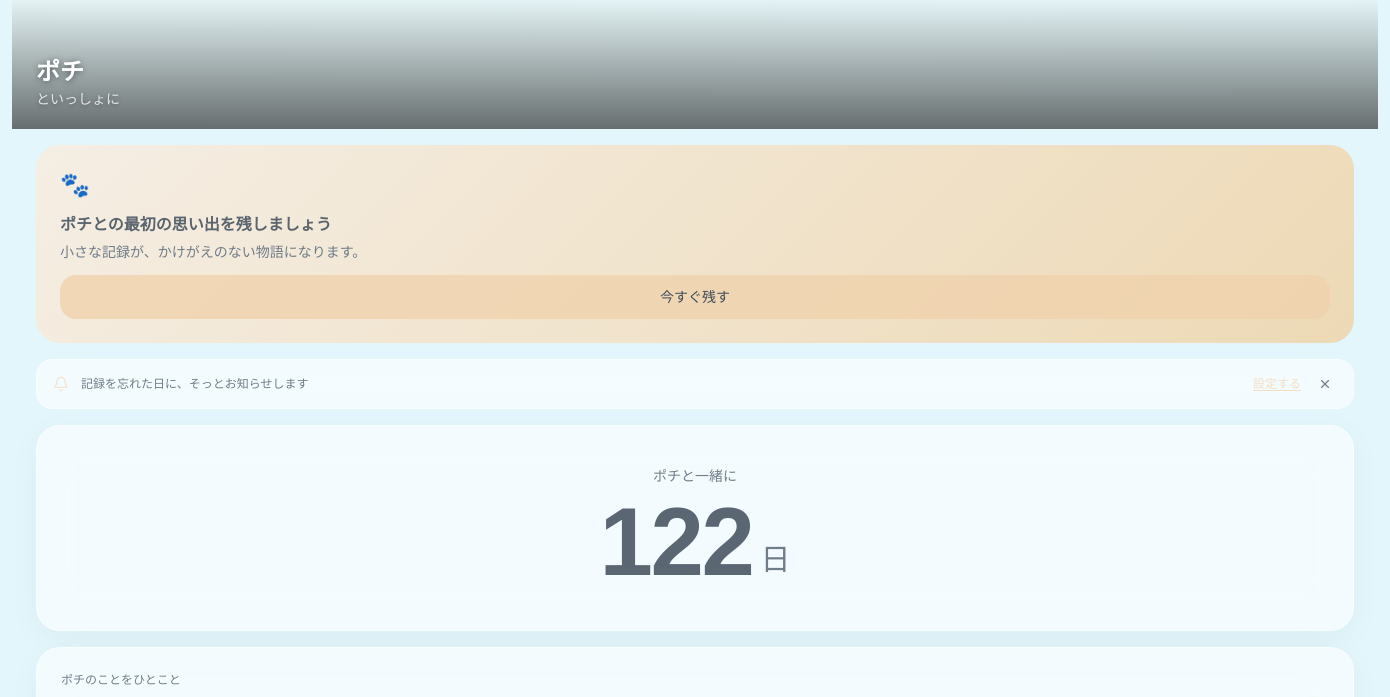
Test: HomeScreen — Push通知バナー › バナーを閉じると非表示になり localStorage にフラグが立つ
(page scrolled)
Click the button named "バナーを閉じる" at (1325, 384), box [1313,372,1337,396]
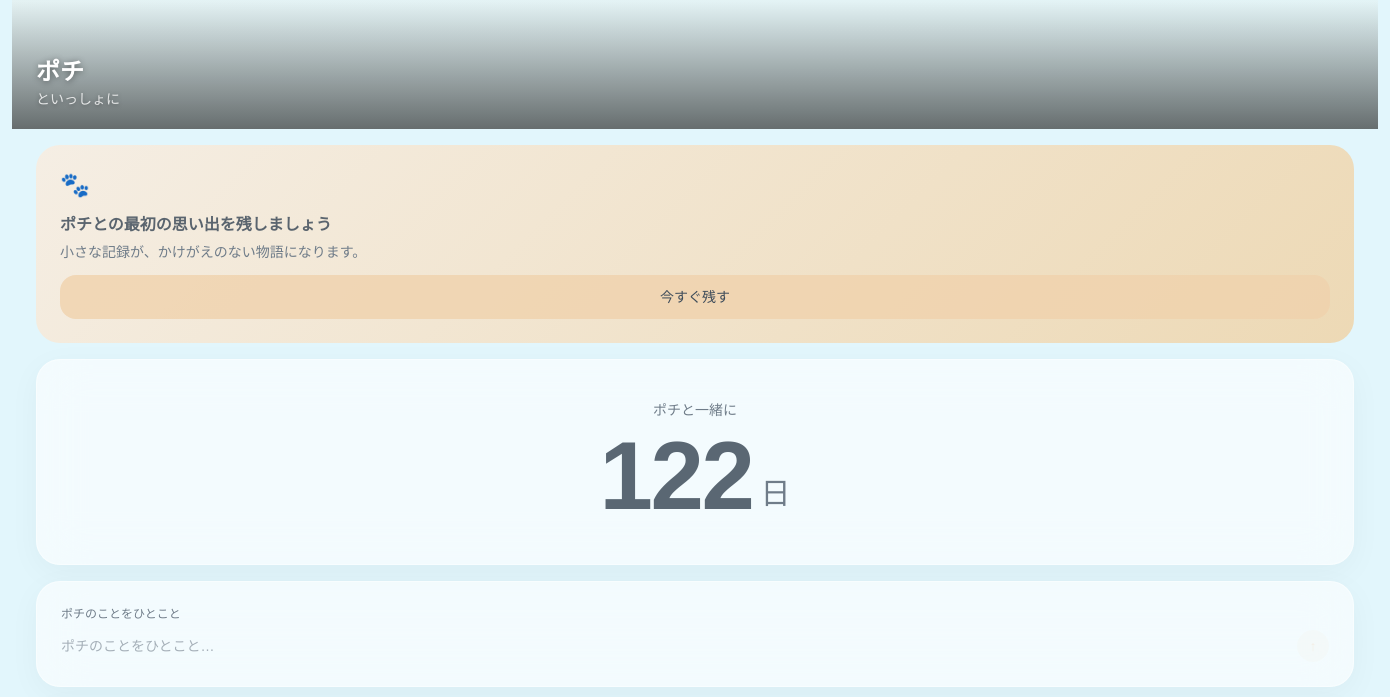
Expected: the text "記録を忘れた日に、そっとお知らせします" is gone
